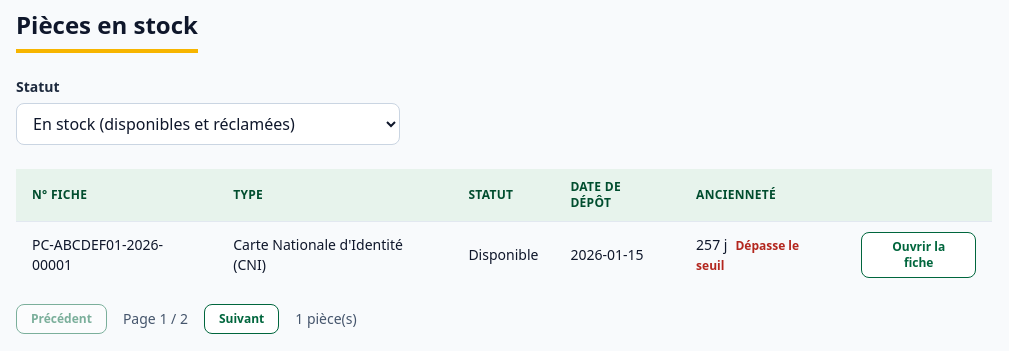
Test: PiecesEnStockPage › pagine avec Suivant et Précédent
The width and height of the screenshot is (1009, 351).
expect the text "PC-ABCDEF01-2026-00001" is shown: met, box [16, 222, 217, 288]
expect the button "Précédent" is disabled: met, box [16, 304, 107, 334]
What coordinates should you click on to do the following:
click the button "Suivant"
I would click on:
 (242, 319)
Its box is [204, 304, 279, 334].
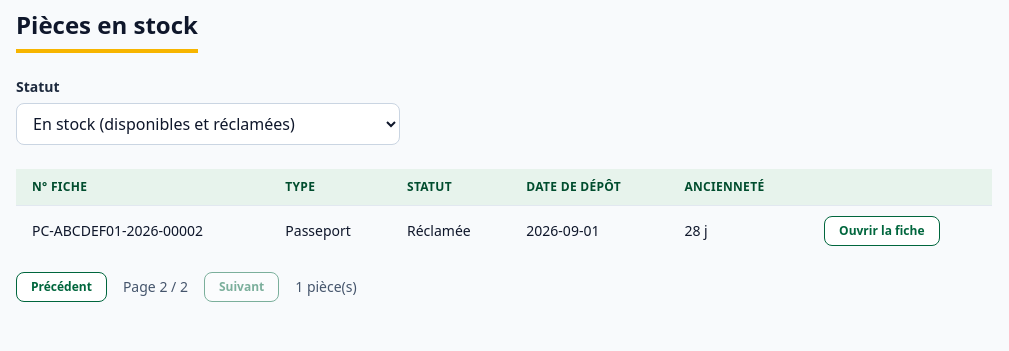
expect the text "PC-ABCDEF01-2026-00002" is shown: met, box [16, 206, 269, 256]
expect the text "Page 2 / 2" is shown: met, box [123, 277, 188, 297]
expect the button "Suivant" is disabled: met, box [204, 272, 279, 302]
What coordinates should you click on to do the following:
click the button "Précédent"
I would click on:
 (61, 287)
Its box is [16, 272, 107, 302].
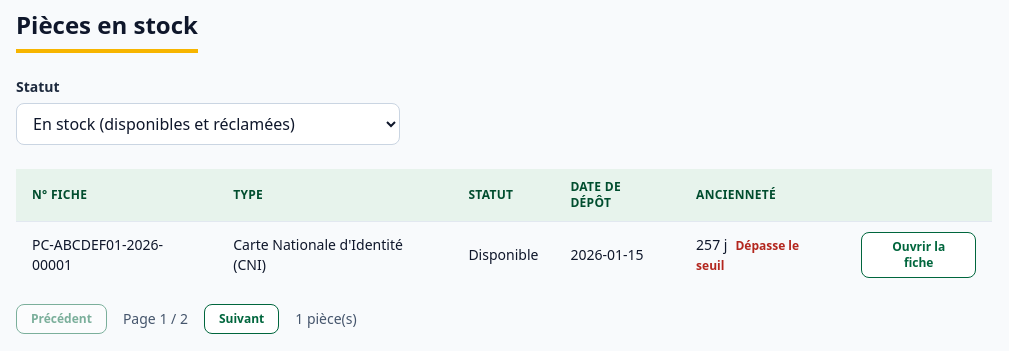
expect the text "PC-ABCDEF01-2026-00001" is shown: met, box [16, 222, 217, 288]
